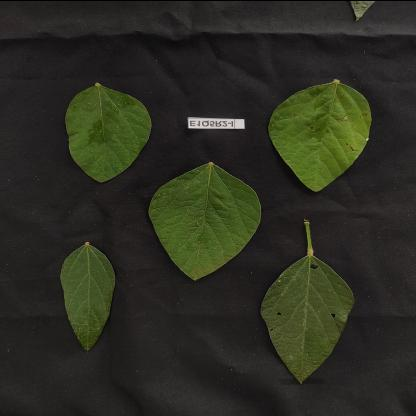label: (172, 110, 253, 134)
leaflets: (252, 237, 354, 389), (140, 159, 264, 276), (278, 60, 378, 202), (32, 238, 130, 372), (51, 74, 160, 186)
